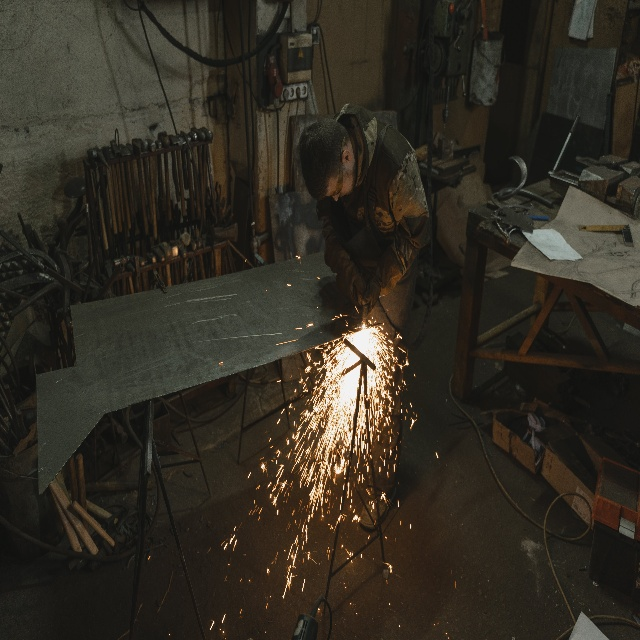Gafas: (326, 135, 346, 198)
Guantes: (345, 244, 403, 316), (323, 233, 365, 306)
